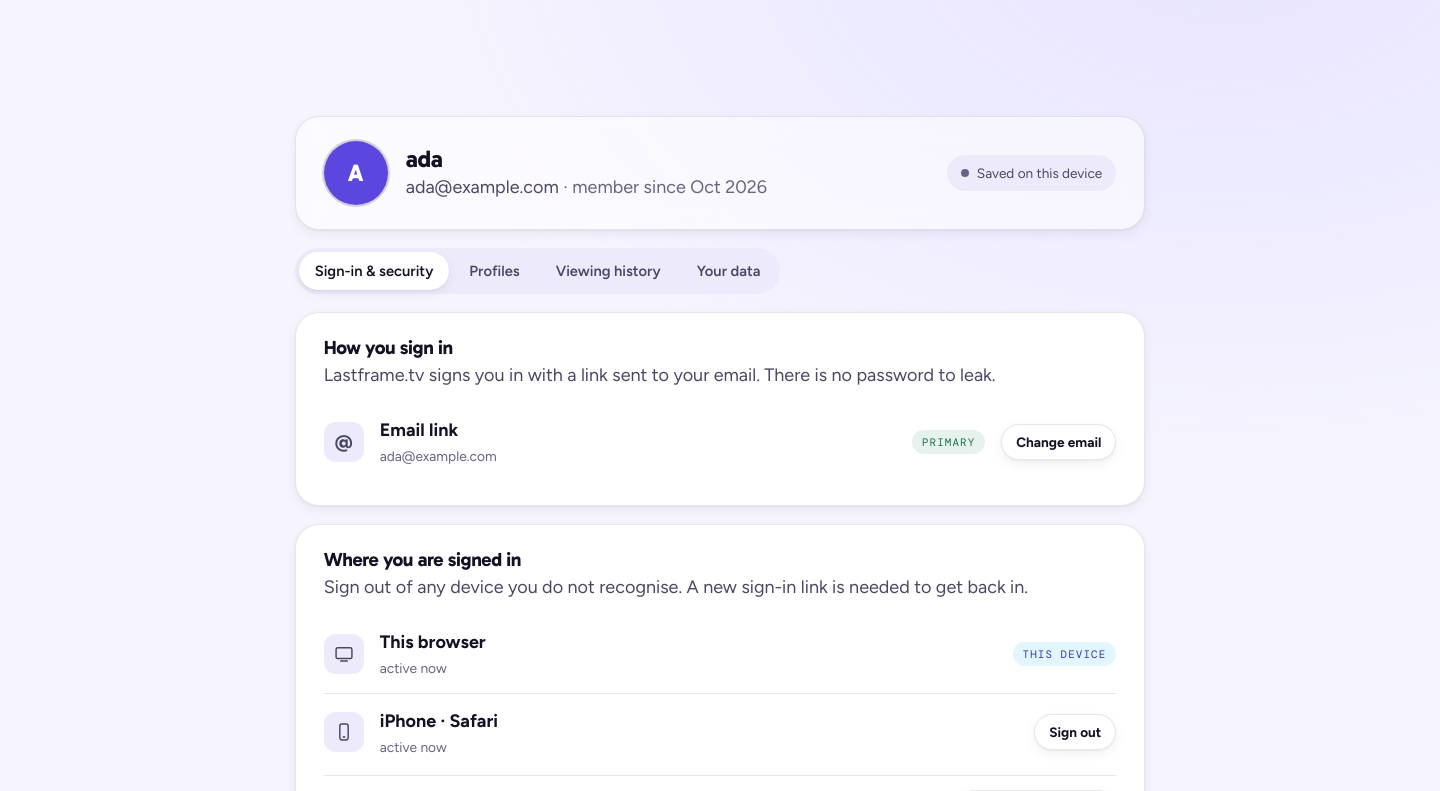
Test: AccountPage: signed in › keeps a device listed when signing it out fails
Click the button with aria-label "Sign out iPhone · Safari" at {"x": 1075, "y": 732}, box [1034,714,1116,750]
(page scrolled)
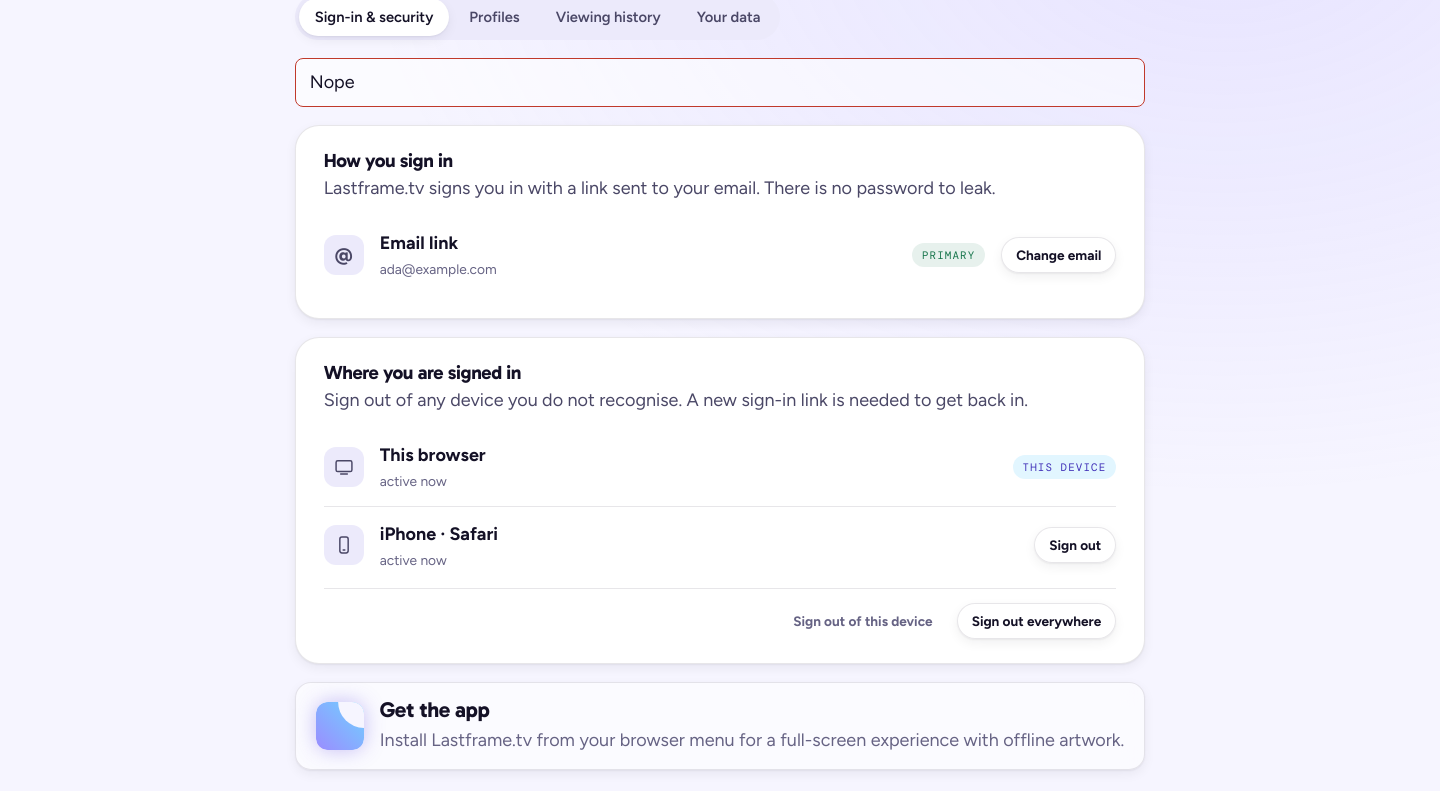
Expected: the text "iPhone · Safari" is shown, [380,523,498,545]
Now the message reads "Nope", box [310,71,354,93]
